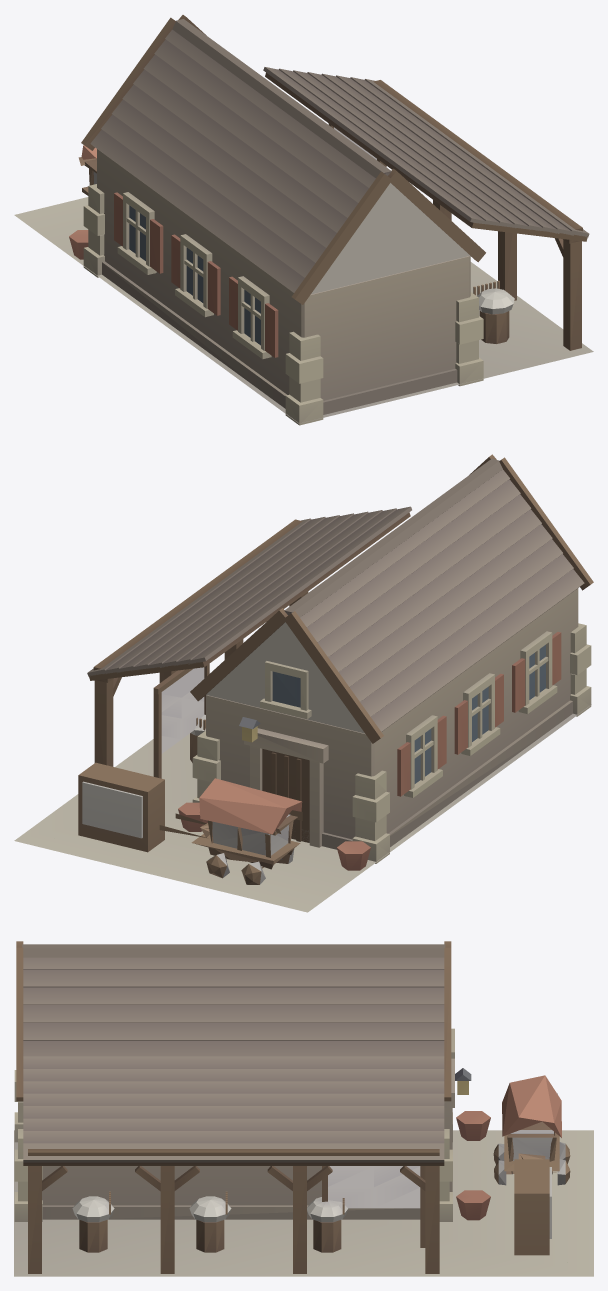
File: lace_maker.glb
The picture shows the model from 3 angles, top to bottom: view 1: azimuth 30°, elevation 25°; view 2: azimuth 150°, elevation 25°; view 3: azimuth 270°, elevation 25°; orthographic projection. The views are drawn at different scales.
Visible parts, largest first — view 1: lace_maker; view 2: lace_maker; view 3: lace_maker.
Boxes of the visible parts, x1=… form: lace_maker: x1=14, y1=15, x2=593, y2=425; lace_maker: x1=14, y1=454, x2=593, y2=912; lace_maker: x1=14, y1=941, x2=593, y2=1276.
Bounding box in the file's own units: 2.99 × 2.21 × 4.96.
